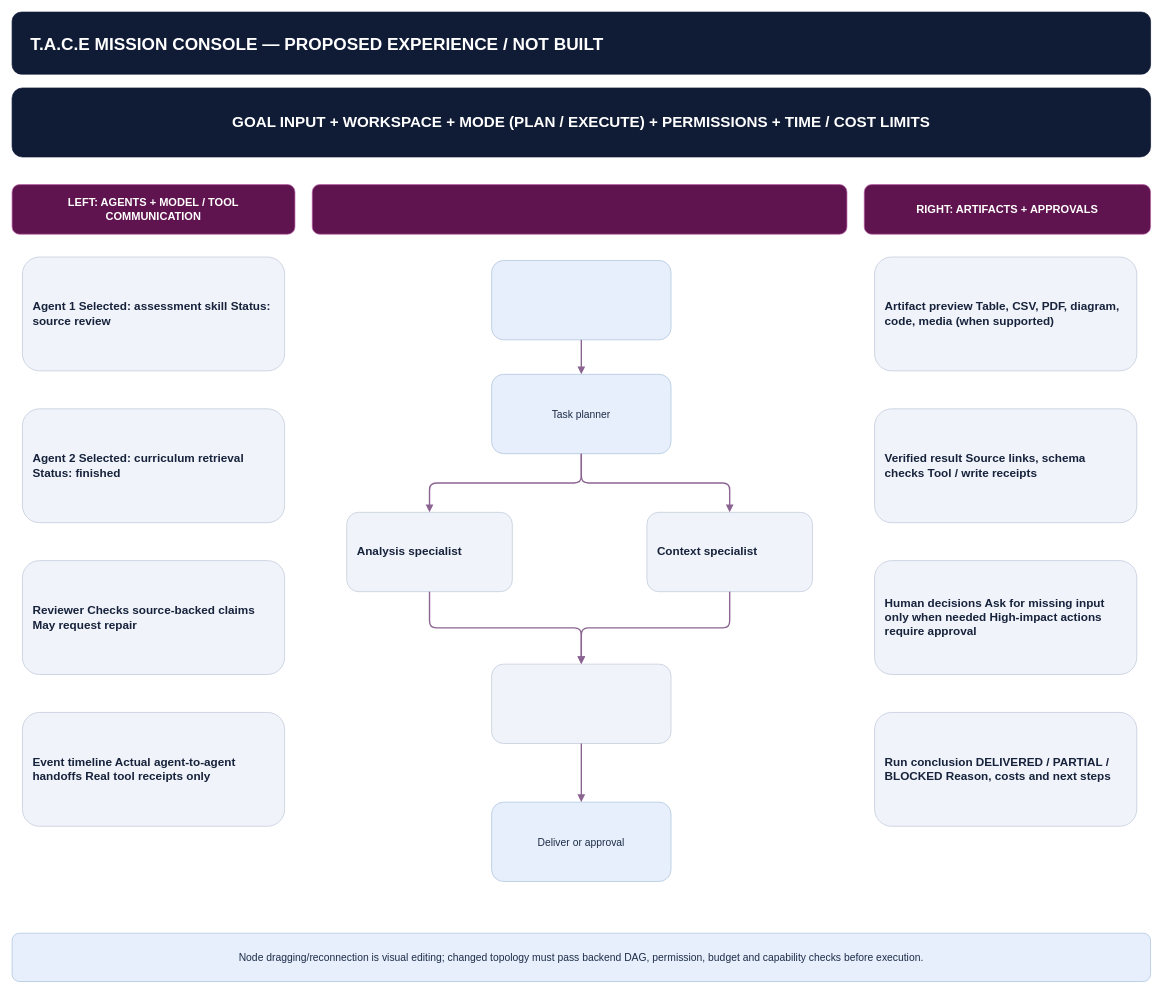
Image size: 1163x994. Some labels were removed from this diagram. The box of each missing label's shape, as (x1, y1, x2, y2) in pixels:
CENTER: EDITABLE EXECUTION GRAPH: (312, 184, 847, 234)
Goal contract: (491, 260, 671, 340)
Merge / review: (491, 663, 671, 743)
